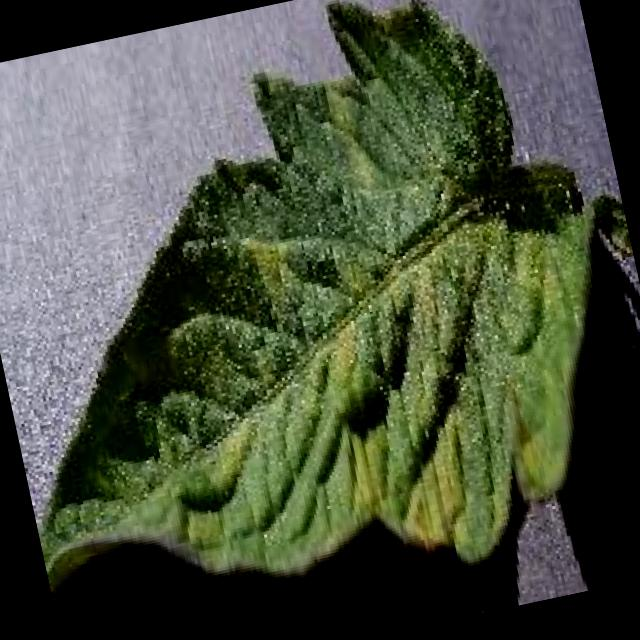leaf mold: (38, 0, 598, 587)
